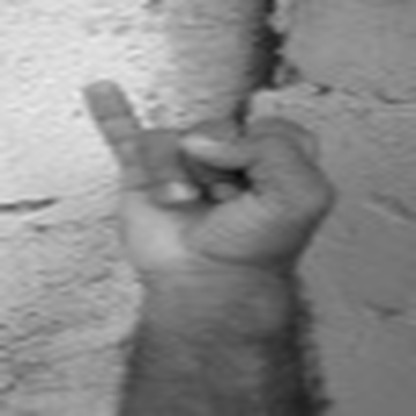i: (48, 68, 358, 290)
